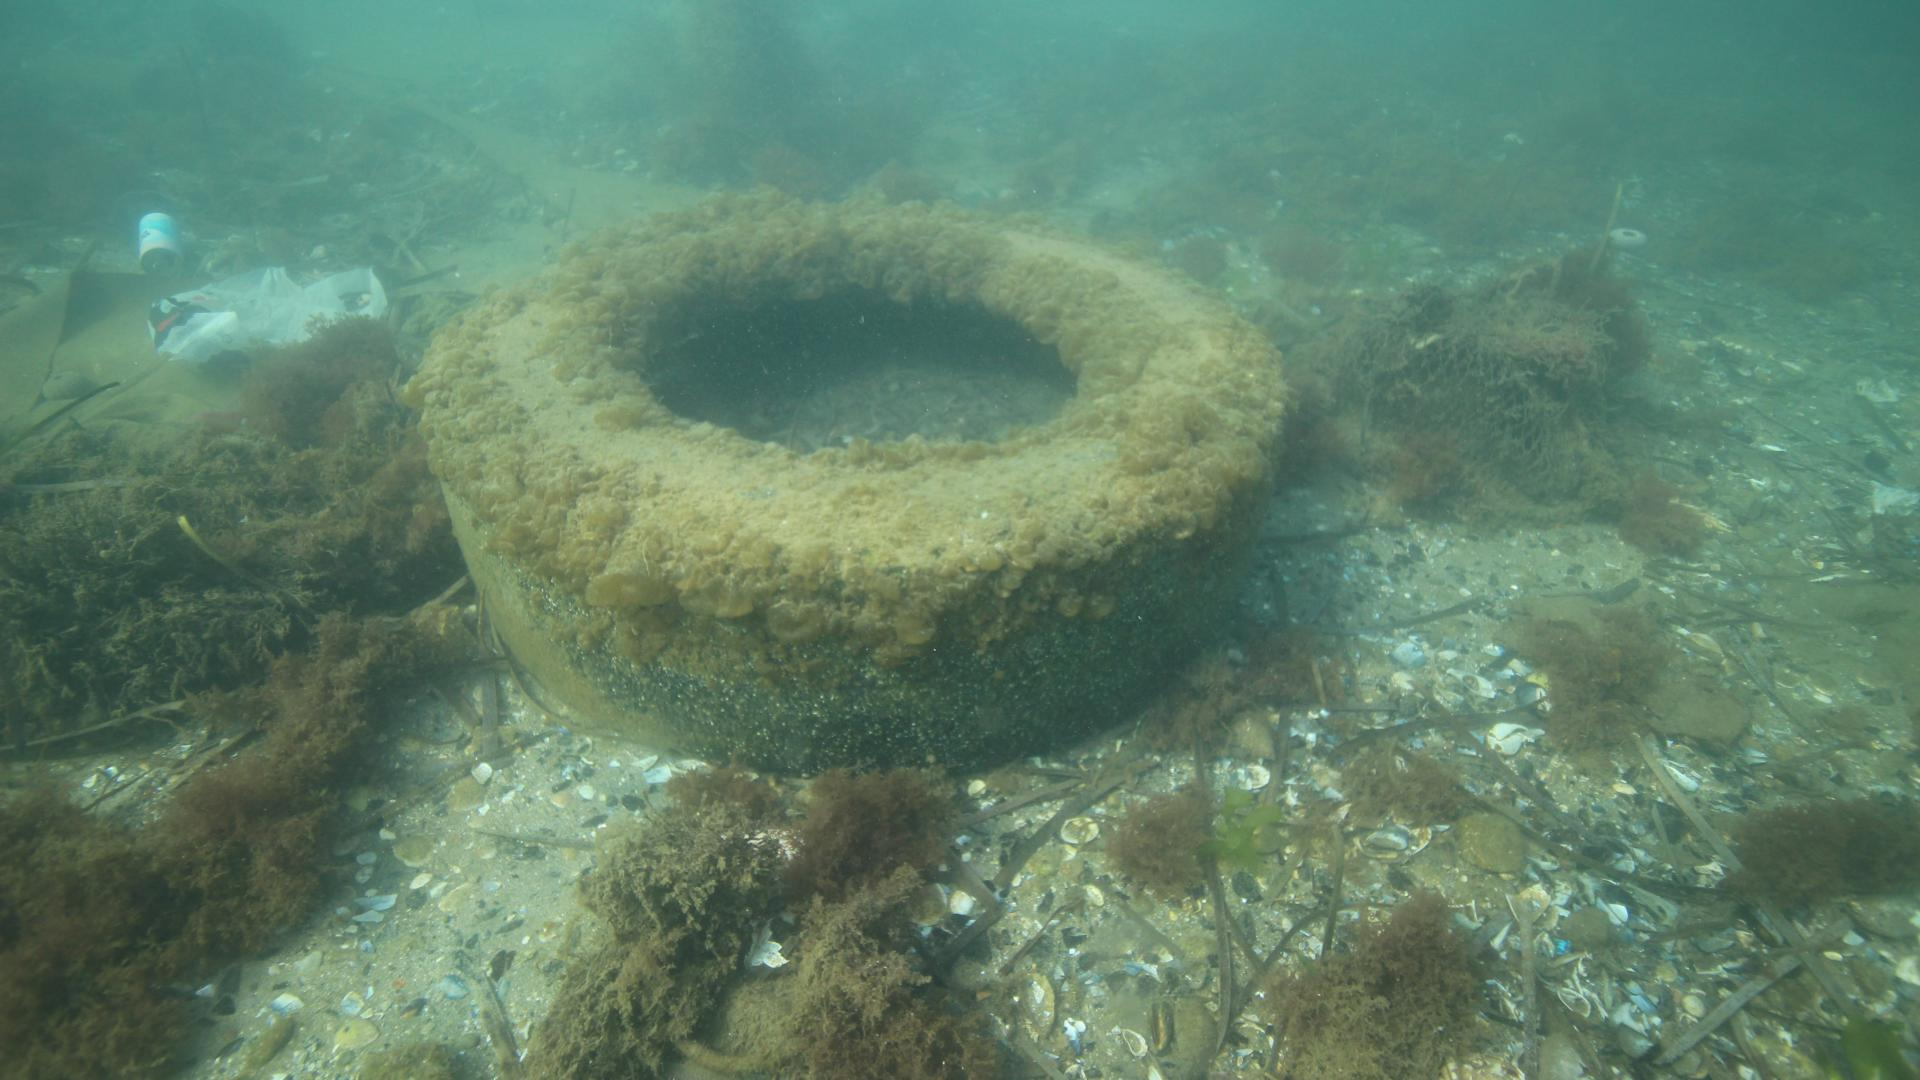tire: (422, 190, 1298, 789)
